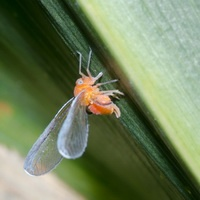insect: (24, 48, 123, 175)
